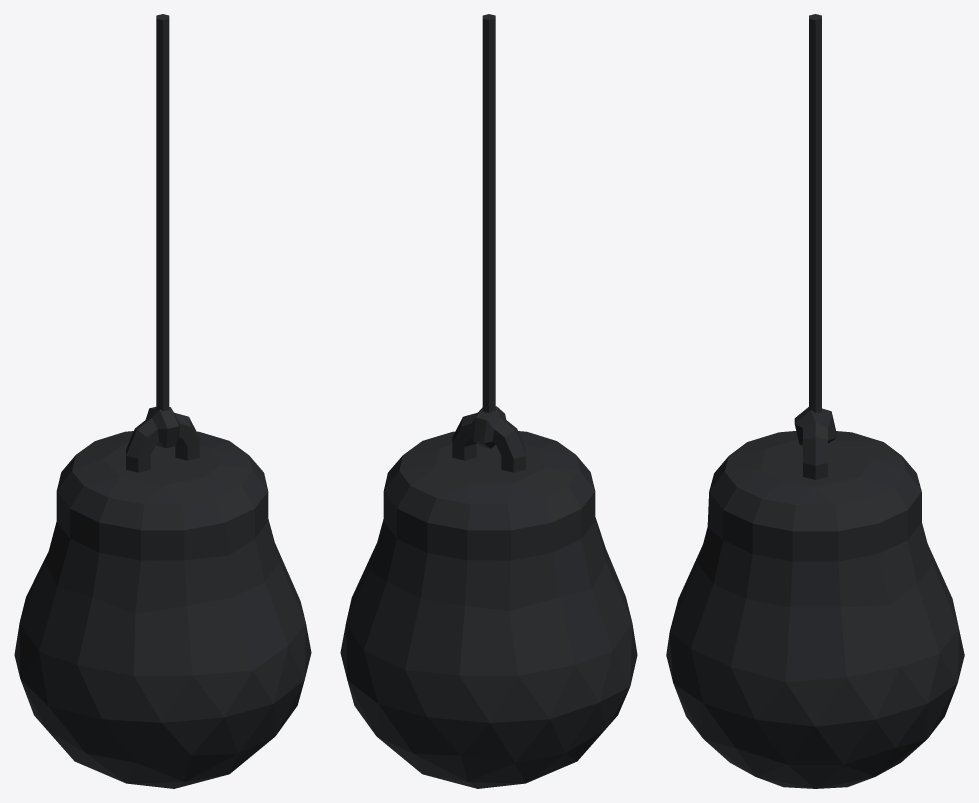
Rendered from SM_Veh_Crane_01_WreckingBall_02.fbx.
3 renders of one model, left to right at view 1: azimuth 30°, elevation 25°; view 2: azimuth 150°, elevation 25°; view 3: azimuth 270°, elevation 25°, orthographic.
Parts seen in each view (by area): view 1: SM_Veh_Crane_01_WreckingBall_02, SM_Veh_Crane_01_WreckingBall_02_Cable; view 2: SM_Veh_Crane_01_WreckingBall_02, SM_Veh_Crane_01_WreckingBall_02_Cable; view 3: SM_Veh_Crane_01_WreckingBall_02, SM_Veh_Crane_01_WreckingBall_02_Cable.
Part boxes in pixels (box(x1,y1,x2,y2)): SM_Veh_Crane_01_WreckingBall_02: box(14, 407, 311, 788); SM_Veh_Crane_01_WreckingBall_02_Cable: box(156, 14, 169, 411); SM_Veh_Crane_01_WreckingBall_02: box(340, 406, 637, 788); SM_Veh_Crane_01_WreckingBall_02_Cable: box(482, 14, 495, 412); SM_Veh_Crane_01_WreckingBall_02: box(666, 407, 964, 788); SM_Veh_Crane_01_WreckingBall_02_Cable: box(809, 14, 821, 413).
Bounding box in the file's own units: 127 × 359 × 128.
